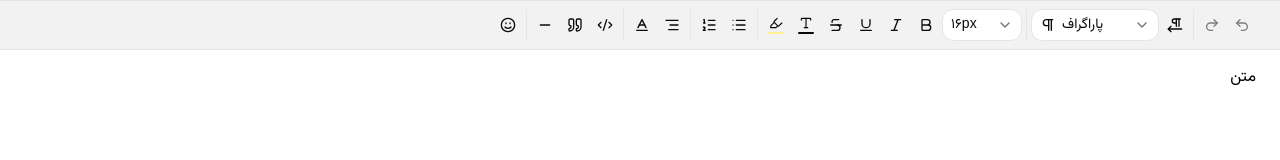
Scenario: NoteBodyEditor tooltips › shows the bold tooltip on hover
Hover over the button named "ضخیم" at x=926, y=25, box [912,11,940,39]
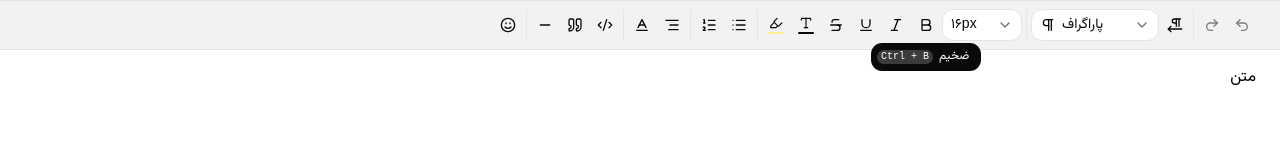
expect the text "ضخیم" is shown: met, box [939,49,969,65]
